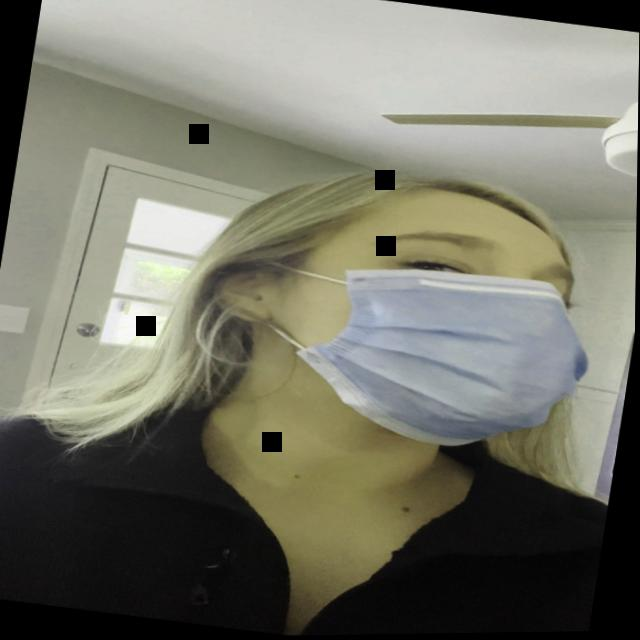Mask: (162, 145, 602, 489)
